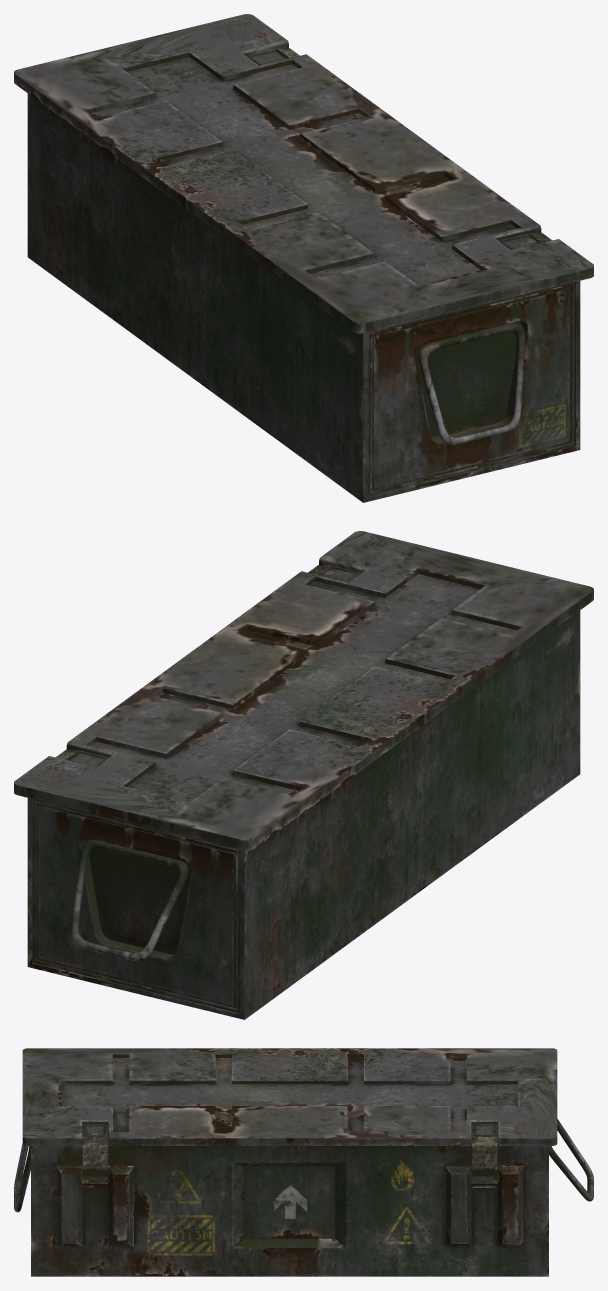
The model's file is weapons_crate.glb.
The picture shows the model from 3 angles, top to bottom: view 1: azimuth 30°, elevation 25°; view 2: azimuth 150°, elevation 25°; view 3: azimuth 270°, elevation 25°; orthographic projection. The views are drawn at different scales.
Parts seen in each view (by area): view 1: Cube.004; view 2: Cube.004; view 3: Cube.004.
Part boxes in pixels (box(x1,y1,x2,y2)): Cube.004: box(14, 14, 593, 502); Cube.004: box(14, 531, 593, 1019); Cube.004: box(14, 1048, 593, 1276).
Size of the model in its own units: 2.94 by 2.15 by 7.93.
1 material, 1 textured.
